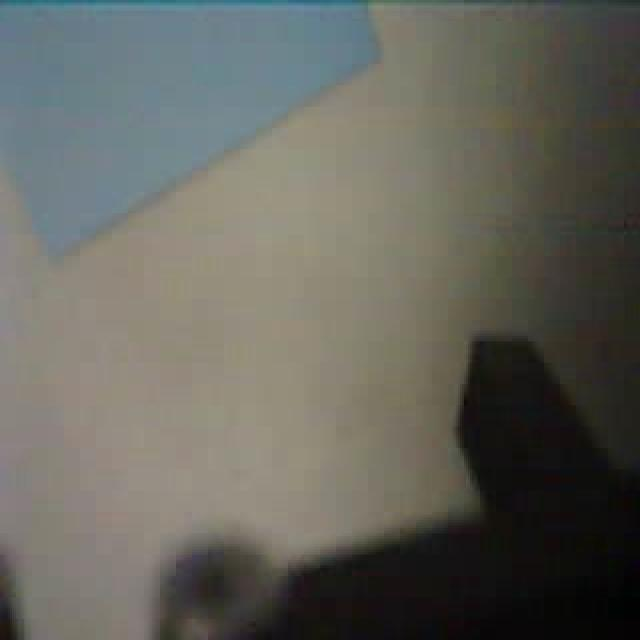blue_box: (17, 4, 381, 250)
